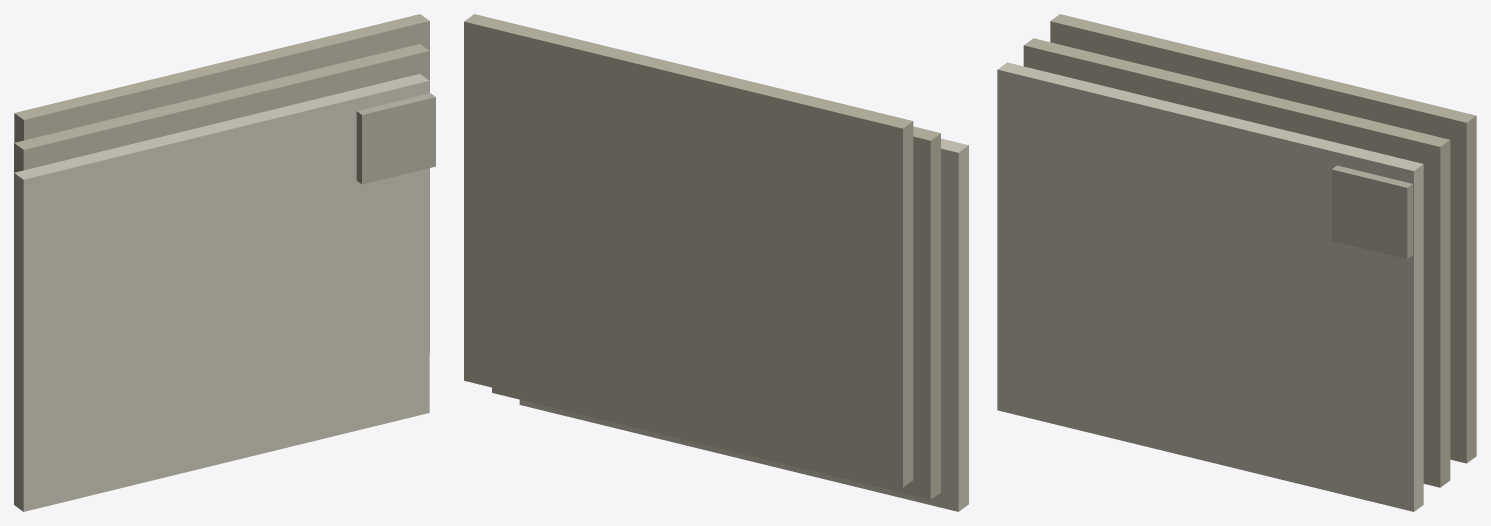
File: material_paper.glb
The picture shows the model from 3 angles, left to right: view 1: azimuth 30°, elevation 25°; view 2: azimuth 150°, elevation 25°; view 3: azimuth 330°, elevation 25°; orthographic projection. The views are drawn at different scales.
Visible parts, largest first — view 1: material_paper; view 2: material_paper; view 3: material_paper.
Boxes of the visible parts, <box> form: material_paper: <box>14,14,435,511</box>; material_paper: <box>464,14,968,511</box>; material_paper: <box>997,14,1476,511</box>.
Size of the model in its own units: 1.17 by 0.95 by 0.195.
